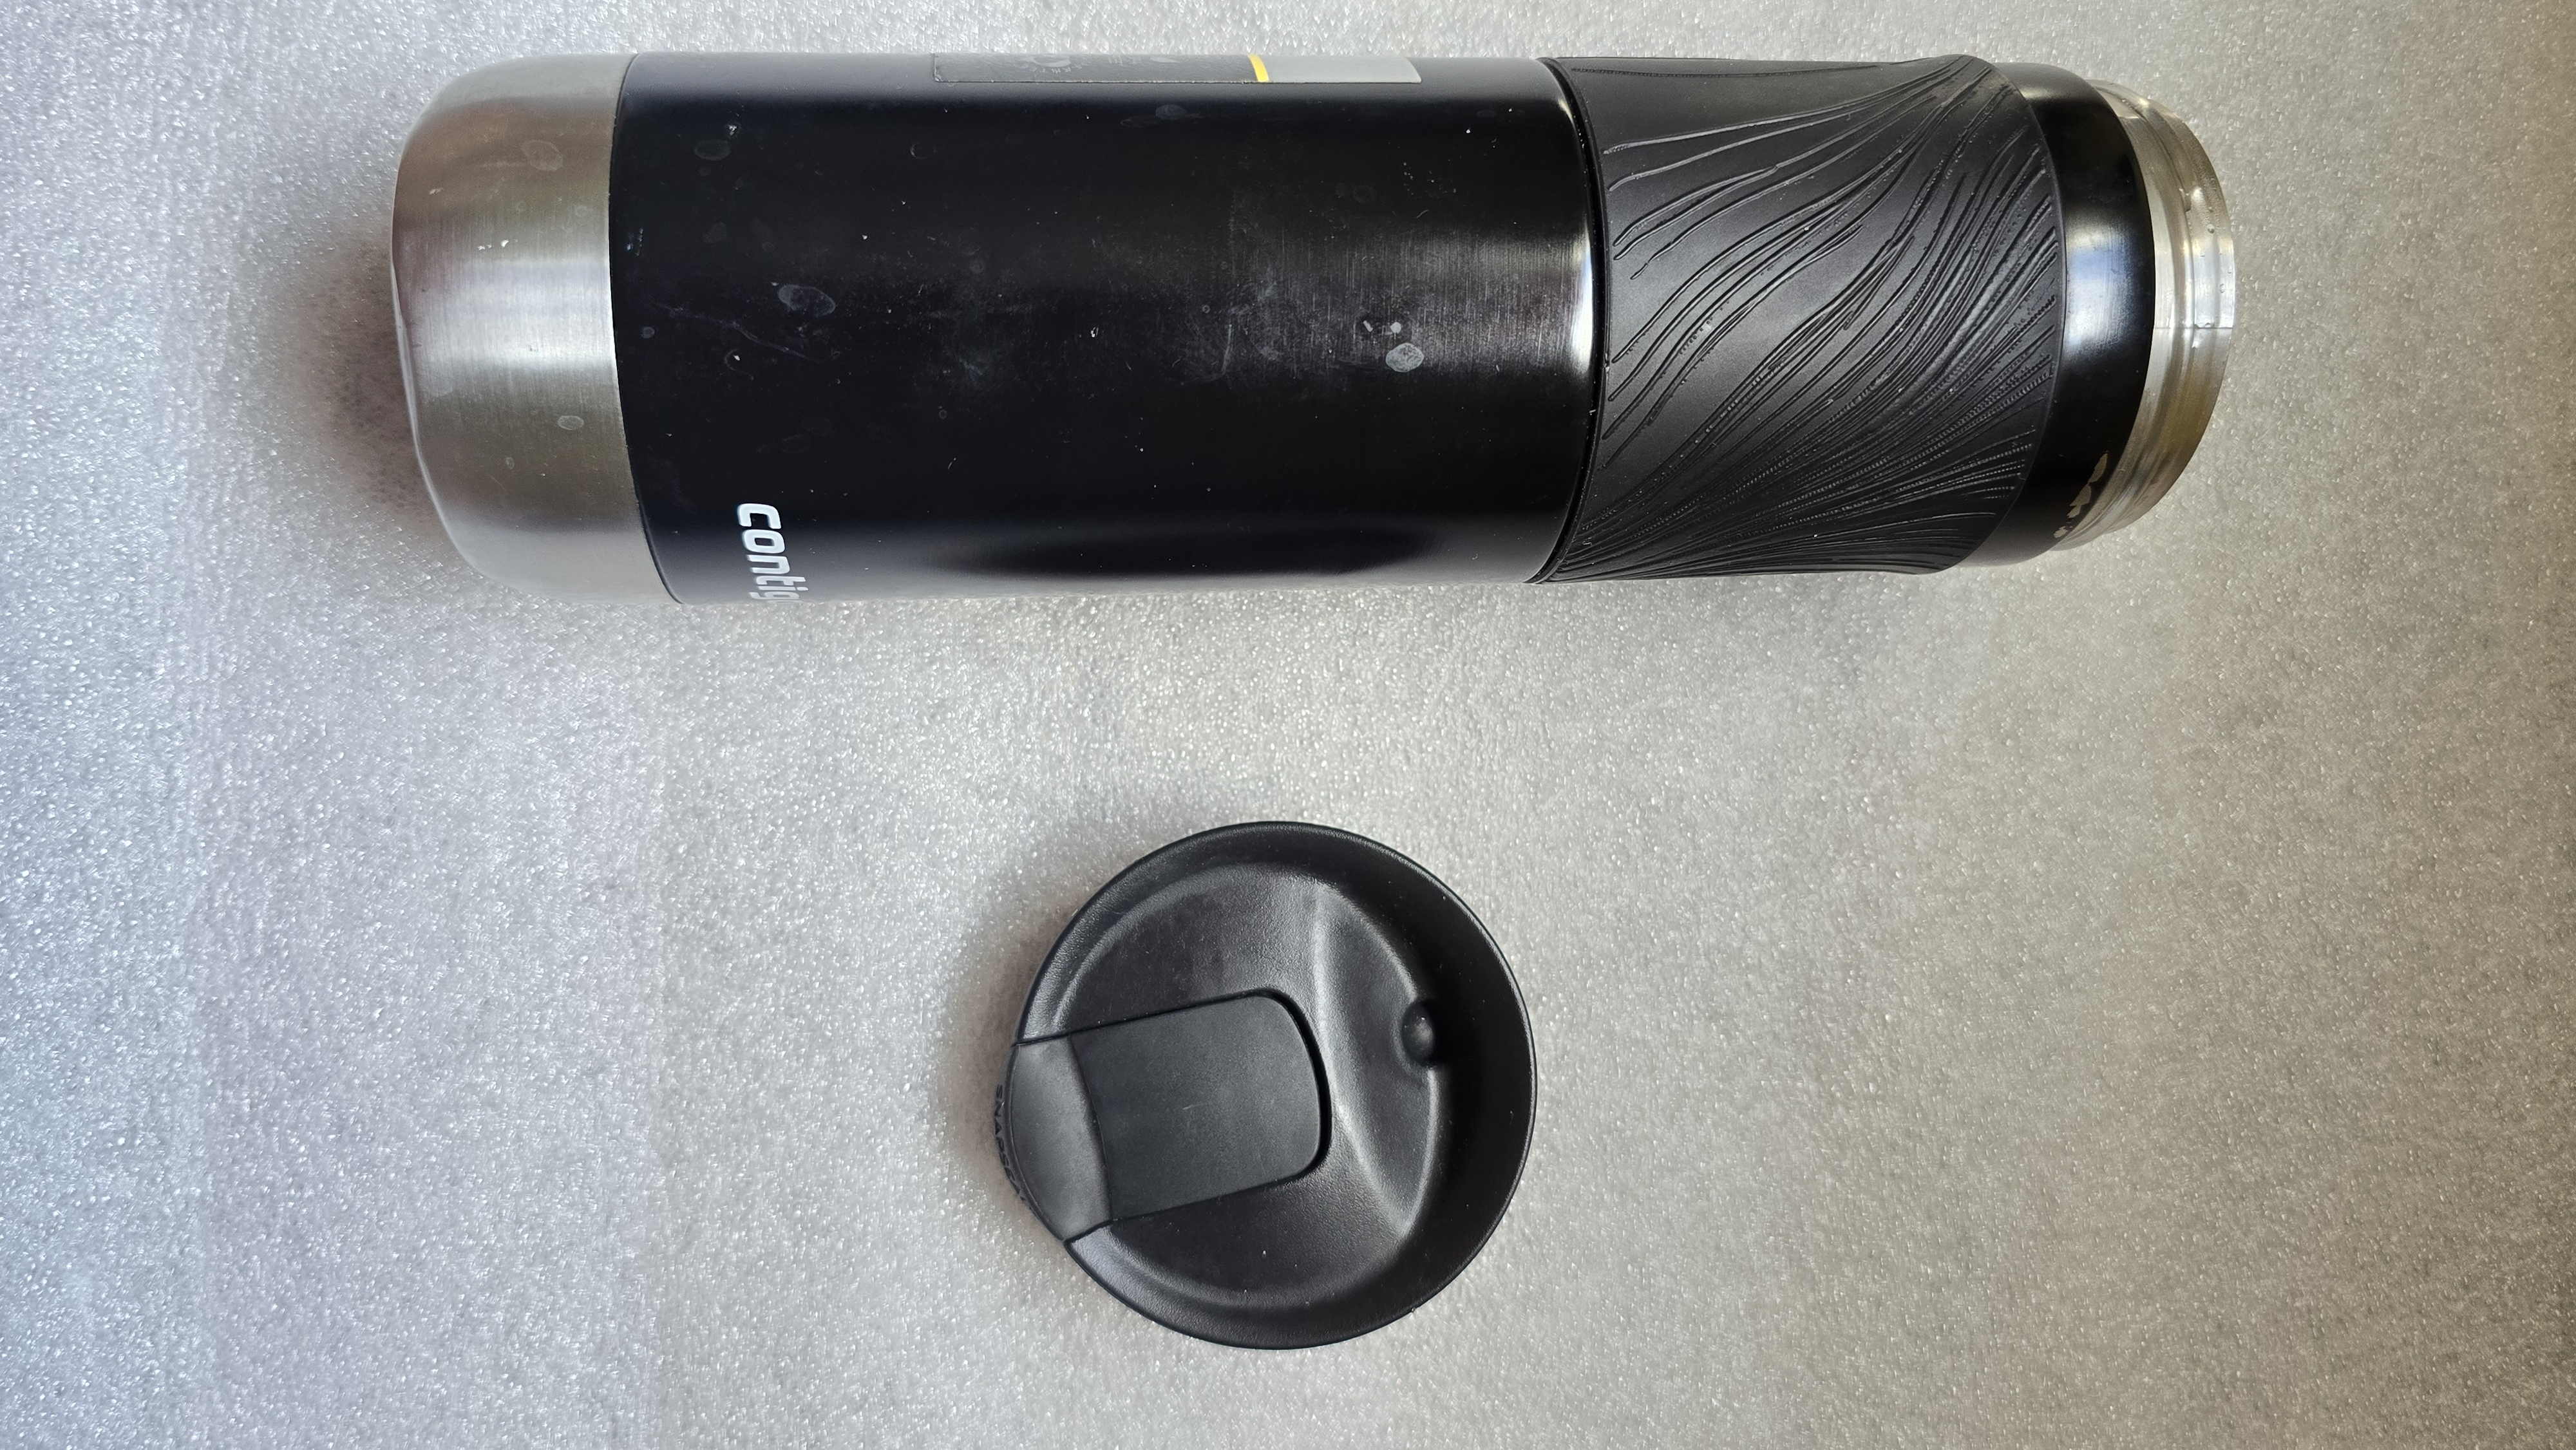bottle: (373, 23, 2265, 615)
